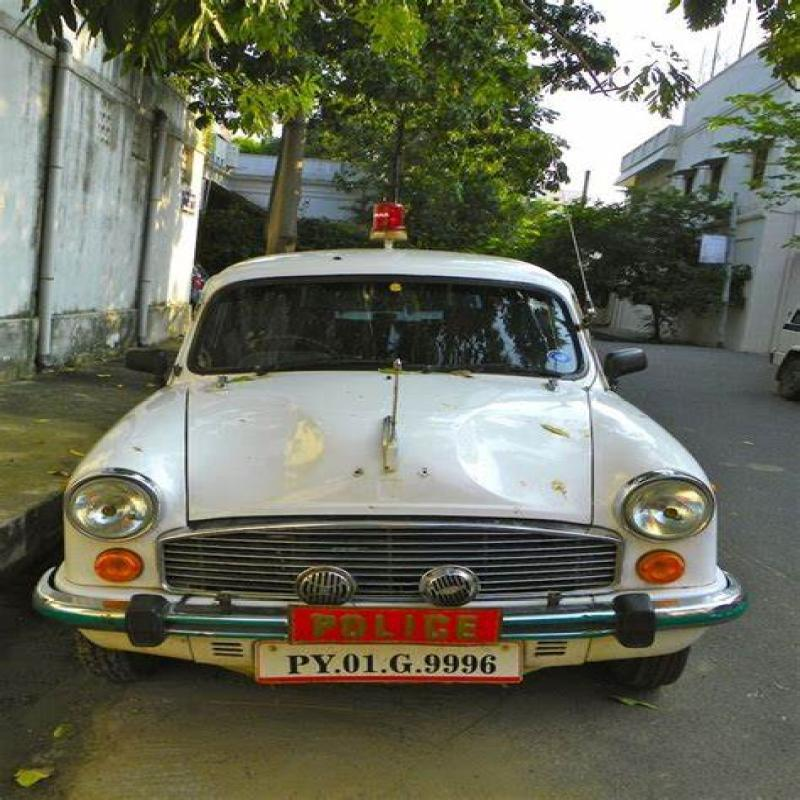AmbulanceSiren: (350, 198, 433, 243)
